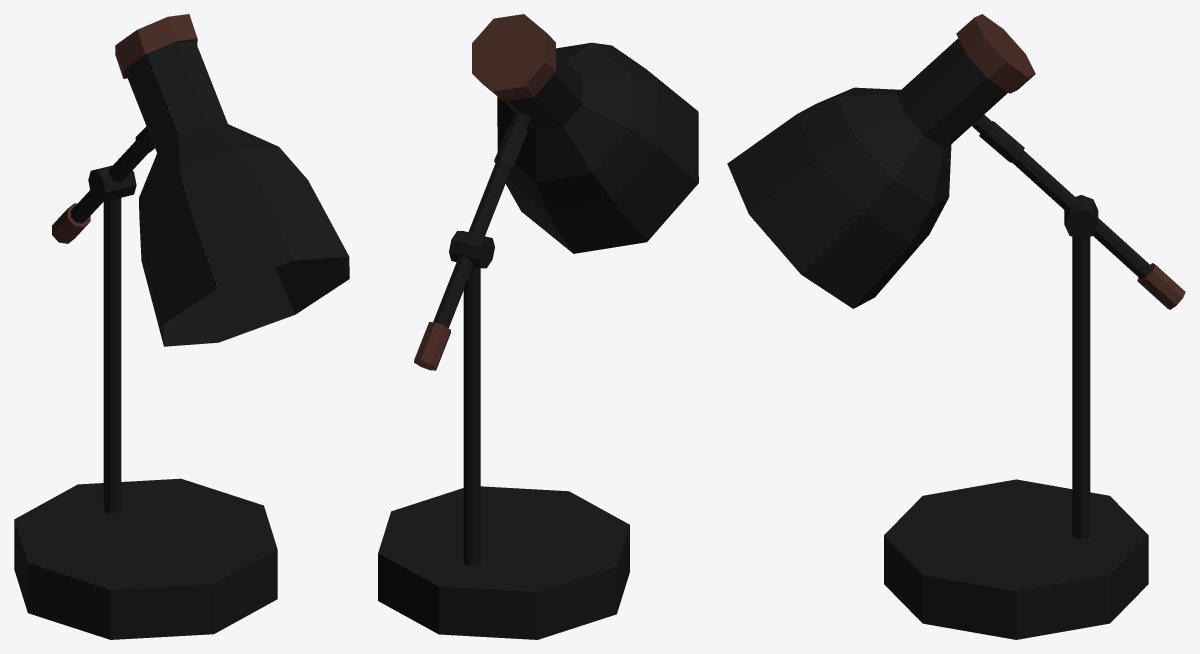
The model's file is Desk_lamp.001.fbx.
3 renders of one model, left to right at view 1: azimuth 30°, elevation 25°; view 2: azimuth 150°, elevation 25°; view 3: azimuth 270°, elevation 25°, orthographic. The views are drawn at different scales.
Parts seen in each view (by area): view 1: Desk_lamp.001; view 2: Desk_lamp.001; view 3: Desk_lamp.001.
Boxes of the visible parts, x1=… form: Desk_lamp.001: x1=14, y1=14, x2=349, y2=639; Desk_lamp.001: x1=378, y1=14, x2=698, y2=639; Desk_lamp.001: x1=727, y1=14, x2=1185, y2=639.
Bounding box in the file's own units: 0.1551 × 0.3661 × 0.2684.
Materials: 1 (1 with a texture image).
